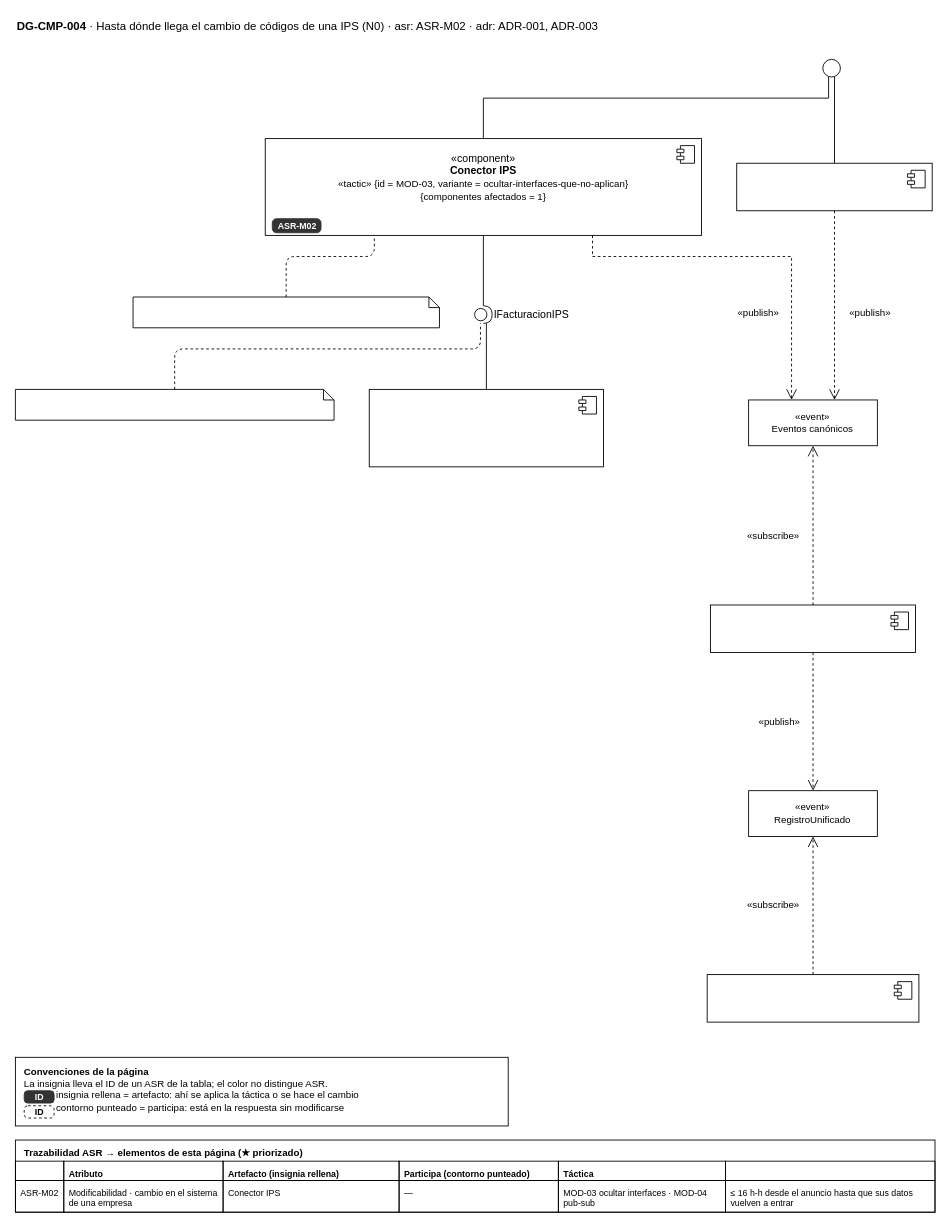
The diagram is 950 pixels wide and 1228 high, and some of its shapes have lost their labels. Each missing label, with the box of its shape:
ADR-001 · el conector sigue la versión del socio: (15, 389, 334, 420)
ASR: (15, 1160, 64, 1181)
ASR-M02 · solo cambia este conector · ≤ 16 h-h: (132, 296, 439, 328)
IConectorFuente: (822, 59, 840, 77)
Medida: (725, 1160, 935, 1181)
«component» Consolidación financiera: (706, 974, 919, 1022)
«component» Motor de interpretación: (710, 604, 916, 653)
«component» «adaptador» Conector EPS: (736, 162, 932, 211)
«external» IPS {control = tercero-bajo-control} {interfaz v = 2}: (368, 389, 604, 467)
